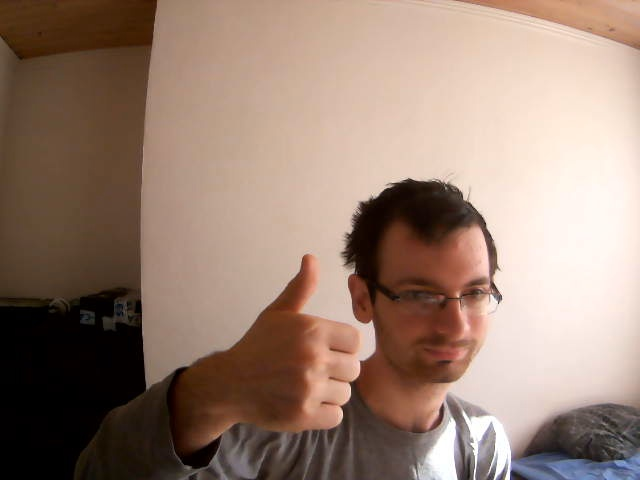nice: (246, 251, 364, 435)
